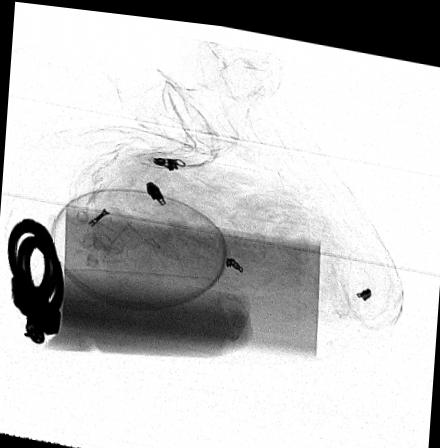HandCuffs: (7, 217, 64, 343)
